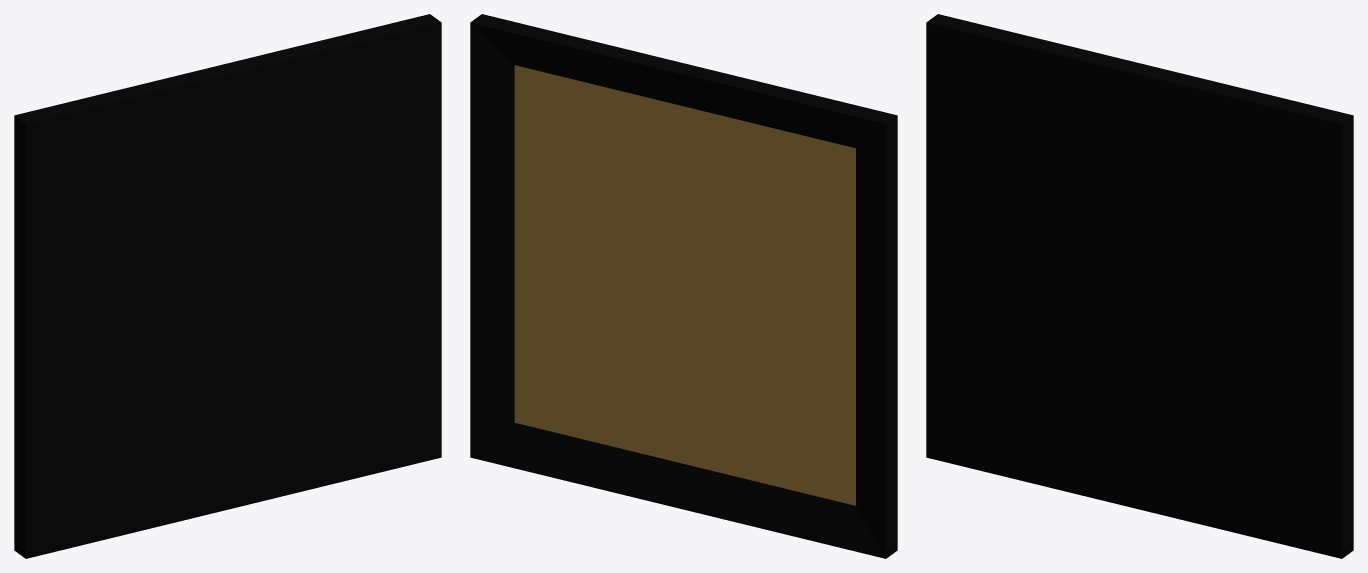
File: SquareFrame.fbx
The picture shows the model from 3 angles, left to right: view 1: azimuth 30°, elevation 25°; view 2: azimuth 150°, elevation 25°; view 3: azimuth 330°, elevation 25°; orthographic projection.
Parts seen in each view (by area): view 1: pCube2; view 2: pCube2; view 3: pCube2.
Boxes of the visible parts, x1,y1,x2,y2 form: pCube2: [14, 14, 441, 558]; pCube2: [470, 14, 897, 558]; pCube2: [926, 14, 1353, 558].
Bounding box in the file's own units: 2.68 × 2.68 × 0.1305.
1 material, 1 textured.
